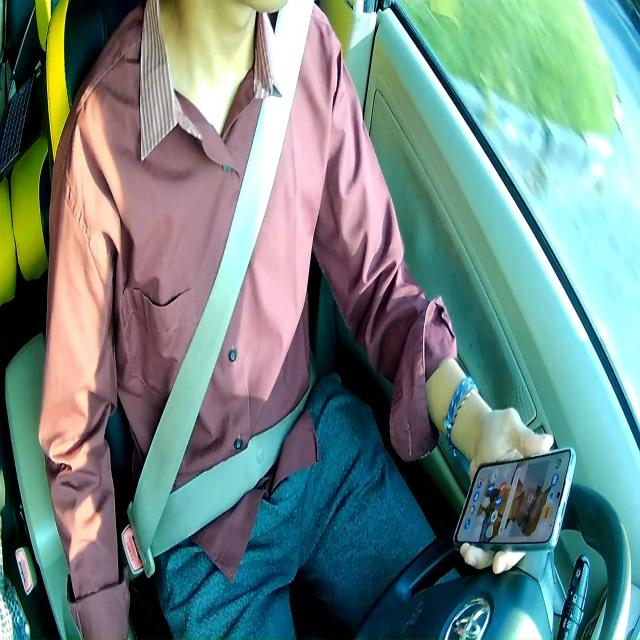phone: (450, 446, 580, 554)
